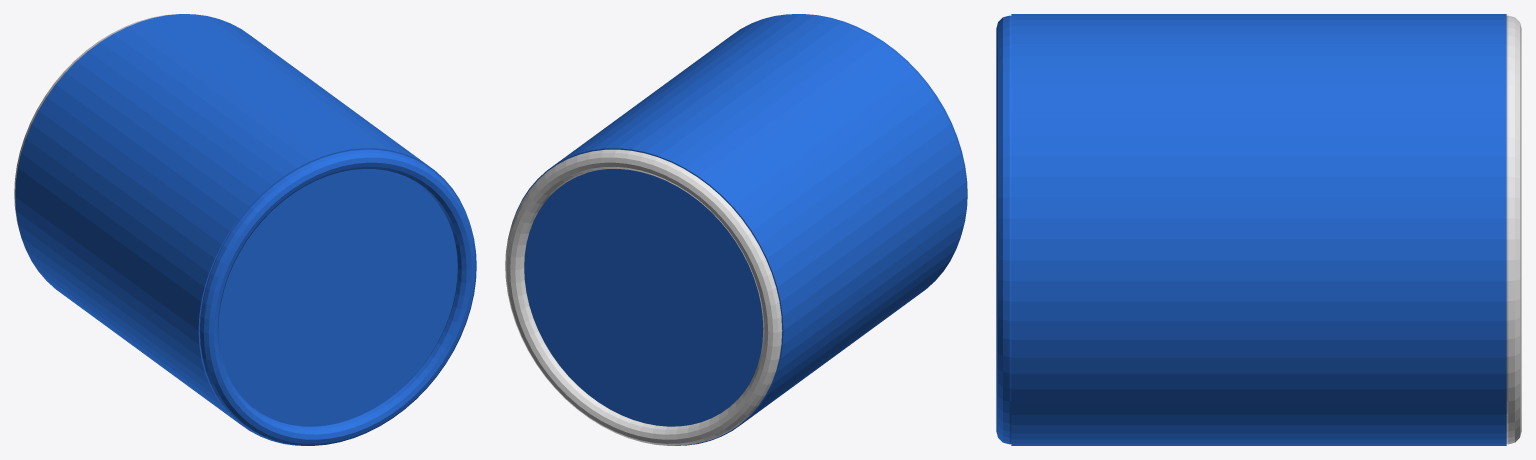
Rendered from chemsource-drum.glb.
3 renders of one model, left to right at view 1: azimuth 30°, elevation 25°; view 2: azimuth 150°, elevation 25°; view 3: azimuth 270°, elevation 25°, orthographic. The views are drawn at different scales.
Visible parts, largest first — view 1: Chemical_Drum, Top_Rim, Bottom_Rim; view 2: Chemical_Drum, Bottom_Rim, Top_Rim; view 3: Chemical_Drum, Top_Rim, Bottom_Rim.
Boxes of the visible parts, x1=… form: Chemical_Drum: x1=15, y1=14, x2=469, y2=445; Top_Rim: x1=199, y1=149, x2=476, y2=445; Bottom_Rim: x1=14, y1=14, x2=178, y2=233; Chemical_Drum: x1=512, y1=14, x2=966, y2=445; Bottom_Rim: x1=505, y1=149, x2=782, y2=445; Top_Rim: x1=803, y1=14, x2=967, y2=233; Chemical_Drum: x1=1011, y1=14, x2=1506, y2=445; Top_Rim: x1=996, y1=15, x2=1011, y2=444; Bottom_Rim: x1=1506, y1=15, x2=1521, y2=444.
Bounding box in the file's own units: 1.44 × 1.44 × 1.75.
